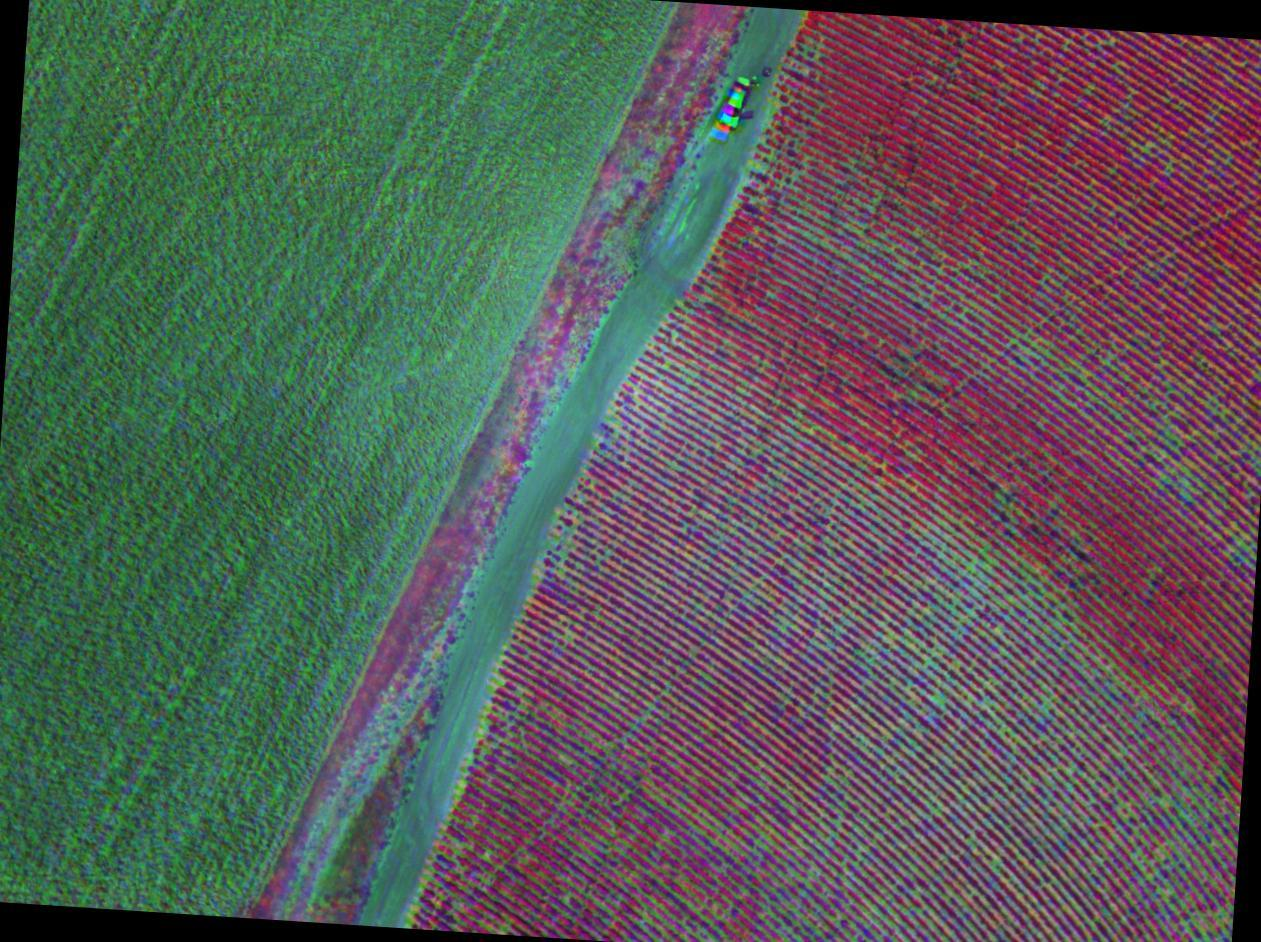dc: (1143, 148, 1148, 152), (1044, 350, 1049, 354), (1158, 800, 1162, 805)
